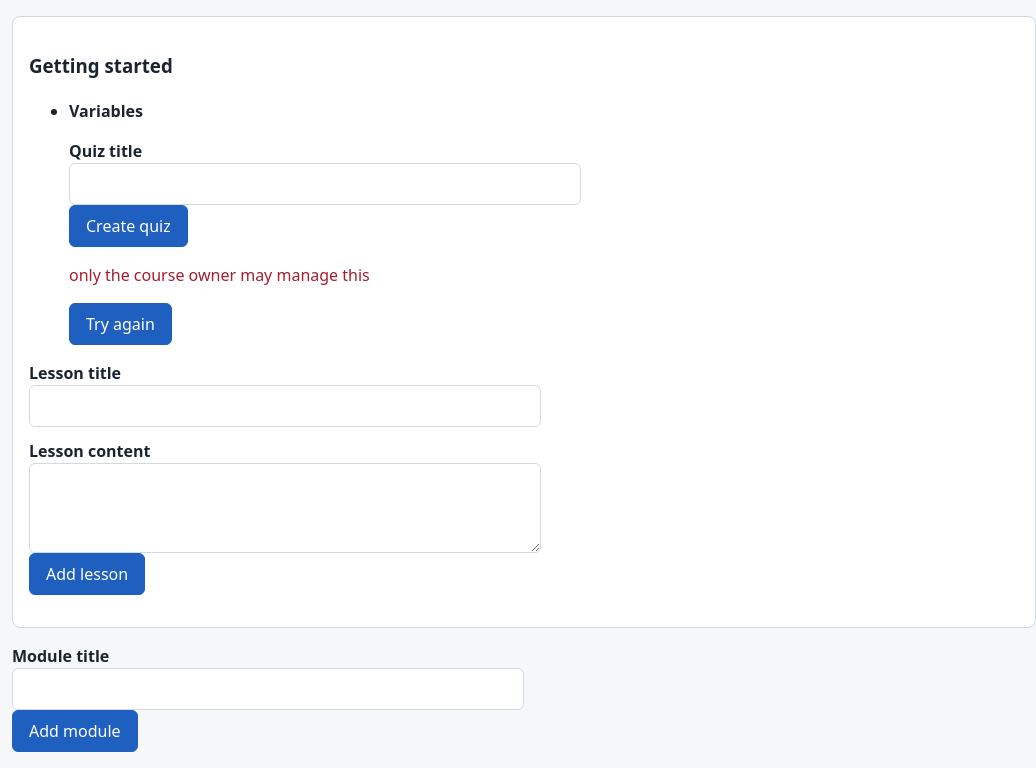
Test: ContentManager › shows the server error when quizzes cannot be listed and retries
Expected: the message reads "only the course owner may manage this", [69,264,370,286]
Click the button "Try again" at (120, 324), box [69,302,172,344]
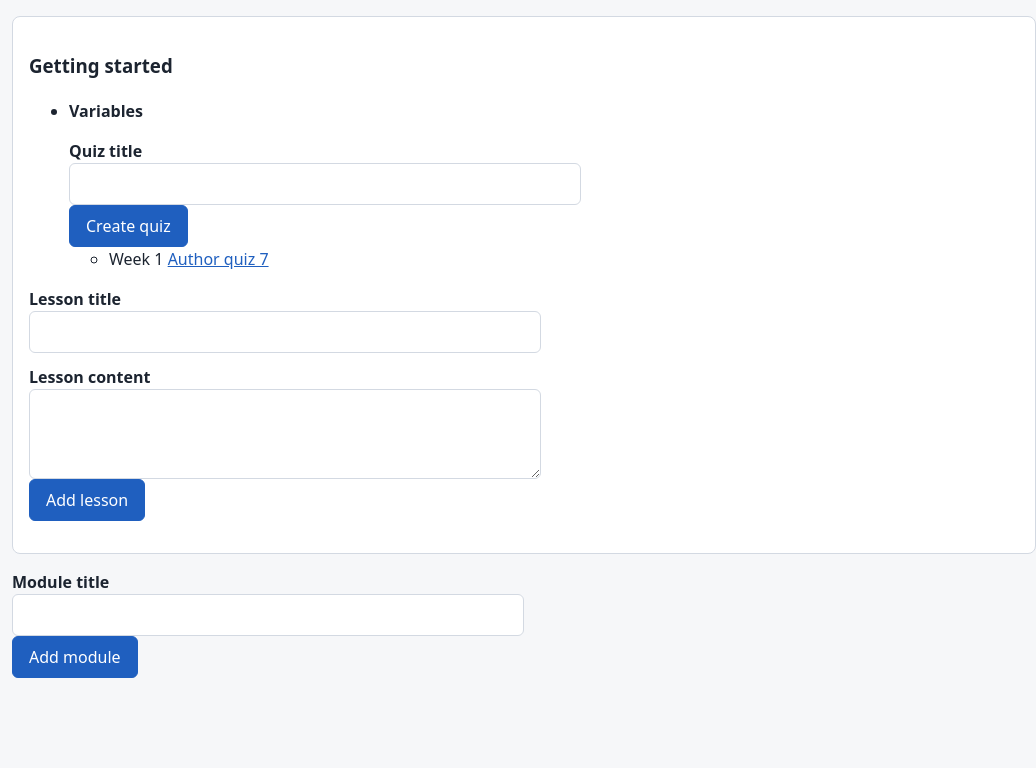
Result: the link "Author quiz 7" is shown at [168,248,268,270]
